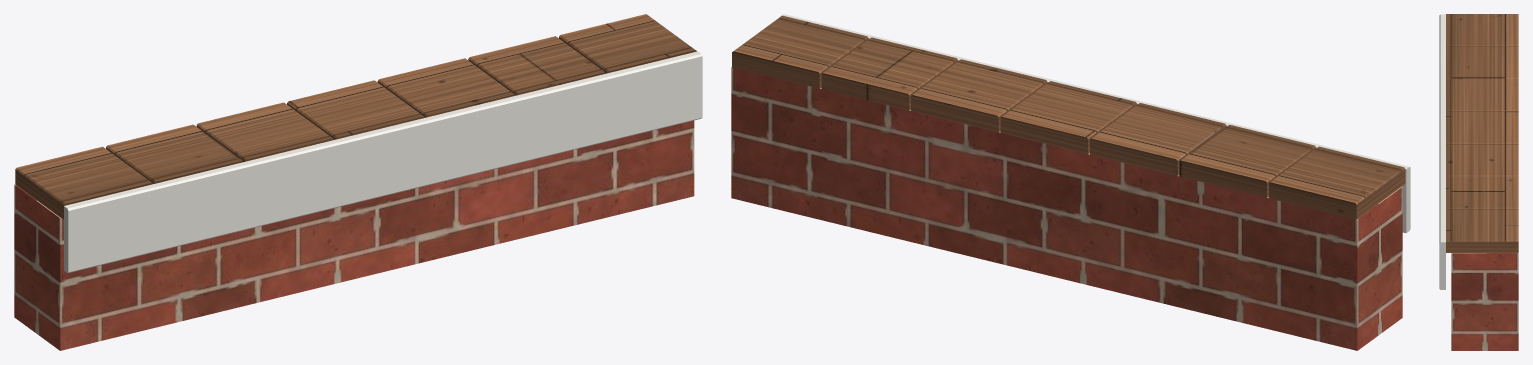
File: porch_base_steps.glb
3 views of the same model, side by side, from view 1: azimuth 30°, elevation 25°; view 2: azimuth 150°, elevation 25°; view 3: azimuth 270°, elevation 25° (orthographic). The views are drawn at different scales.
Visible parts, largest first — view 1: porch_base_steps_brick, porch_base_steps_trim, porch_base_steps_deck; view 2: porch_base_steps_brick, porch_base_steps_deck, porch_base_steps_trim; view 3: porch_base_steps_deck, porch_base_steps_brick, porch_base_steps_trim.
Part boxes in pixels (left/top/right/bottom): porch_base_steps_brick: left=14, top=120, right=694, bottom=350; porch_base_steps_trim: left=64, top=51, right=702, bottom=273; porch_base_steps_deck: left=15, top=14, right=696, bottom=219; porch_base_steps_brick: left=731, top=67, right=1402, bottom=350; porch_base_steps_deck: left=732, top=15, right=1405, bottom=219; porch_base_steps_trim: left=780, top=14, right=1410, bottom=233; porch_base_steps_deck: left=1446, top=14, right=1518, bottom=252; porch_base_steps_brick: left=1451, top=253, right=1518, bottom=350; porch_base_steps_trim: left=1439, top=14, right=1445, bottom=289.
Bounding box in the file's own units: 2 × 0.45 × 0.295.
3 materials, 2 textured.
